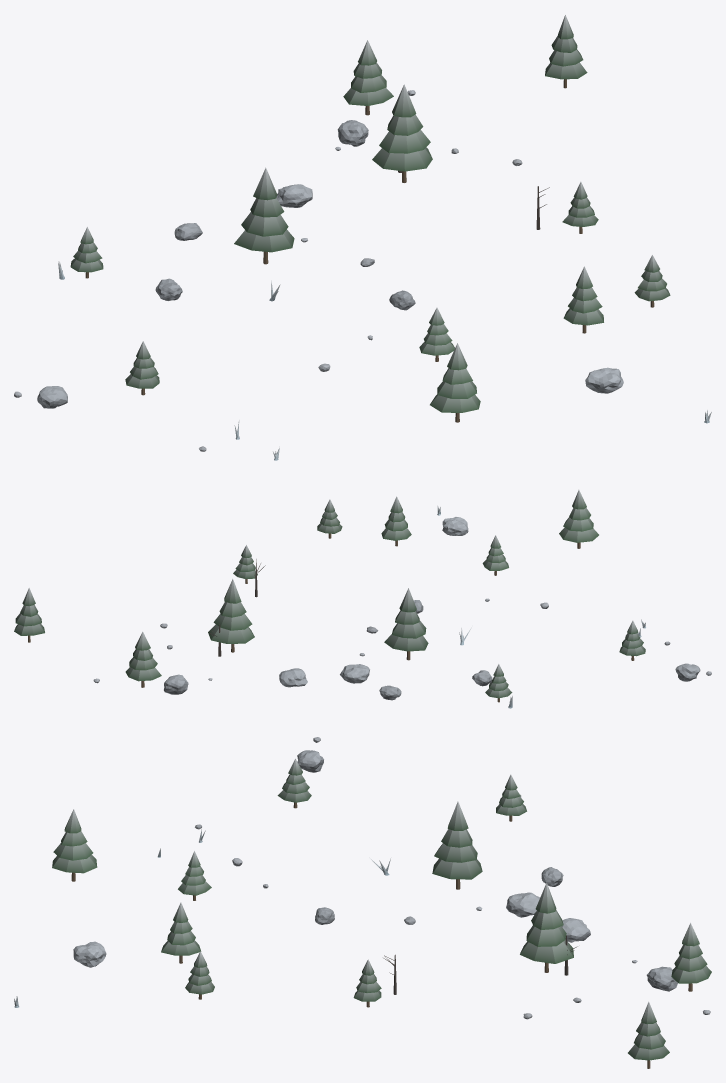
File: frost_land_scatter_c18_13.glb
The picture shows the model from 3 angles, top to bottom: view 1: azimuth 30°, elevation 25°; view 2: azimuth 150°, elevation 25°; view 3: azimuth 270°, elevation 25°; orthographic projection. The views are drawn at different scales.
Parts seen in each view (by area): view 1: frost_land_scatter_c18_13; view 2: frost_land_scatter_c18_13; view 3: frost_land_scatter_c18_13.
Part boxes in pixels (<box>): frost_land_scatter_c18_13: <box>14,15,711,460</box>; frost_land_scatter_c18_13: <box>14,490,711,708</box>; frost_land_scatter_c18_13: <box>14,737,711,1068</box>.
Bounding box in the file's own units: 117 × 20.59 × 103.
